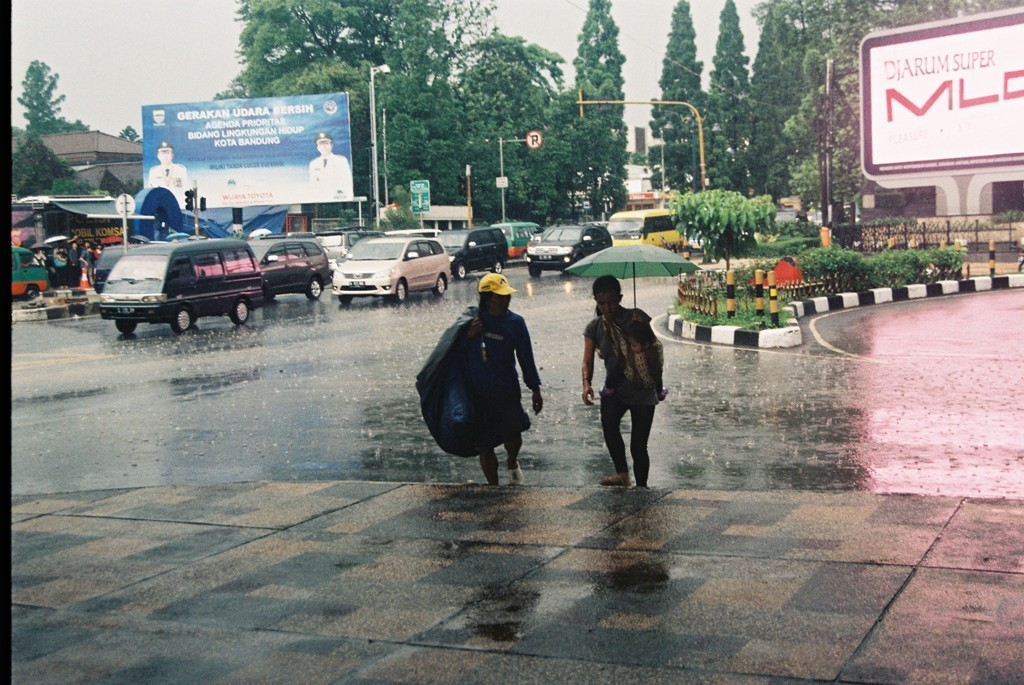Car: (97, 221, 611, 338)
